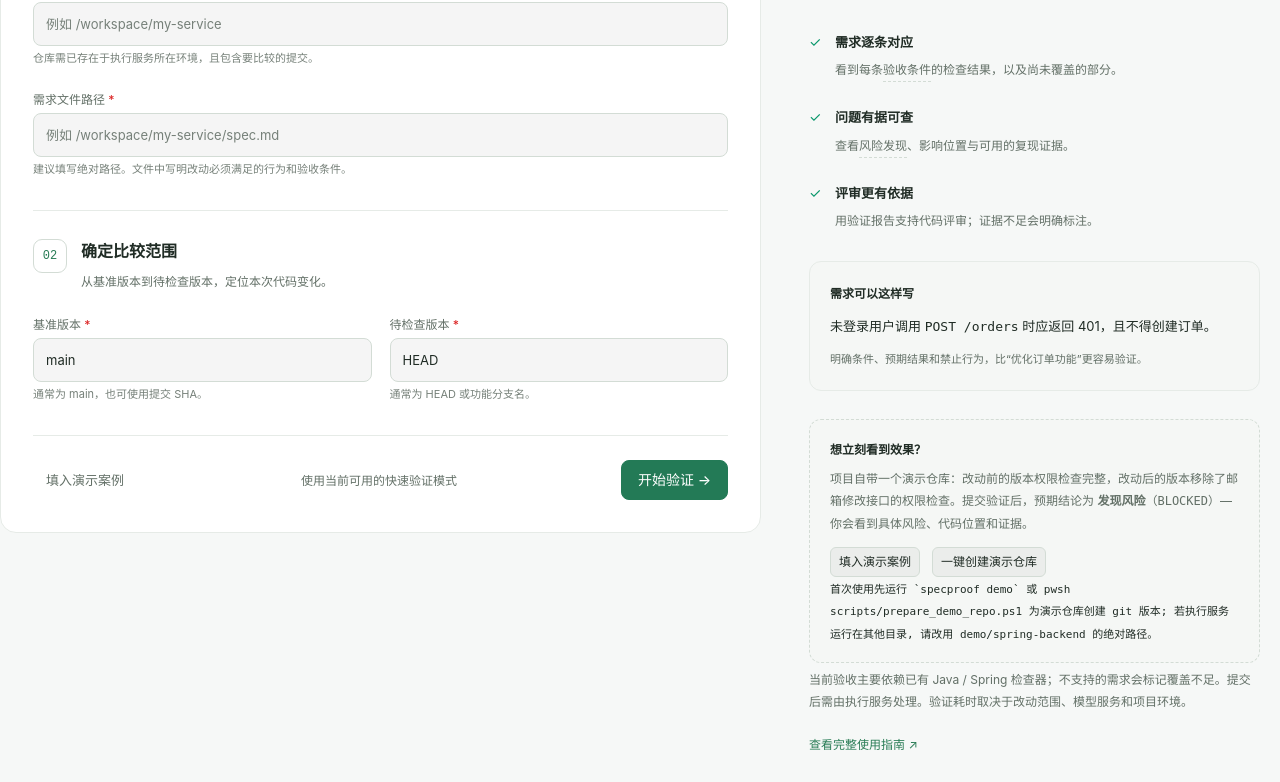
Scenario: new verification › explains missing input without sending an invalid job
(page scrolled)
Click the button "开始验证 →": (674, 480) [621,460,728,500]
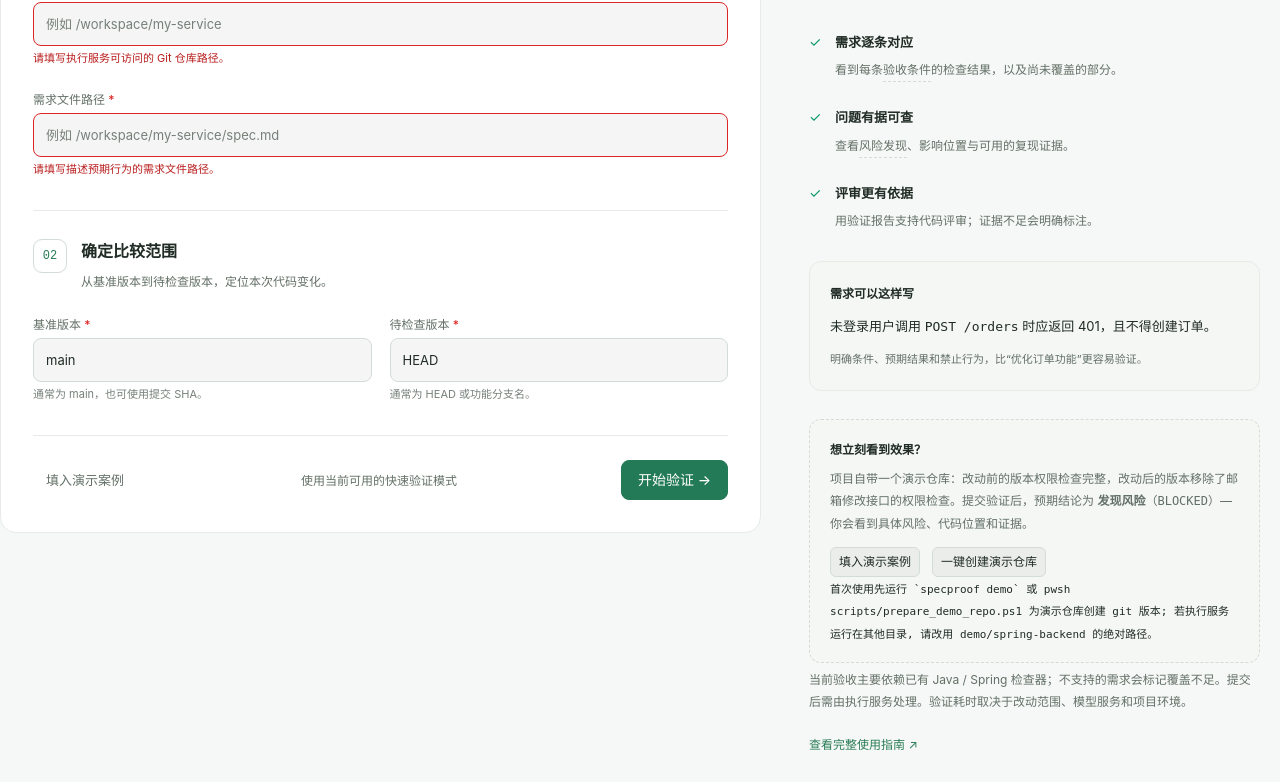
Result: the text "请填写执行服务可访问的 Git 仓库路径。" is shown at [33,51,230,65]
